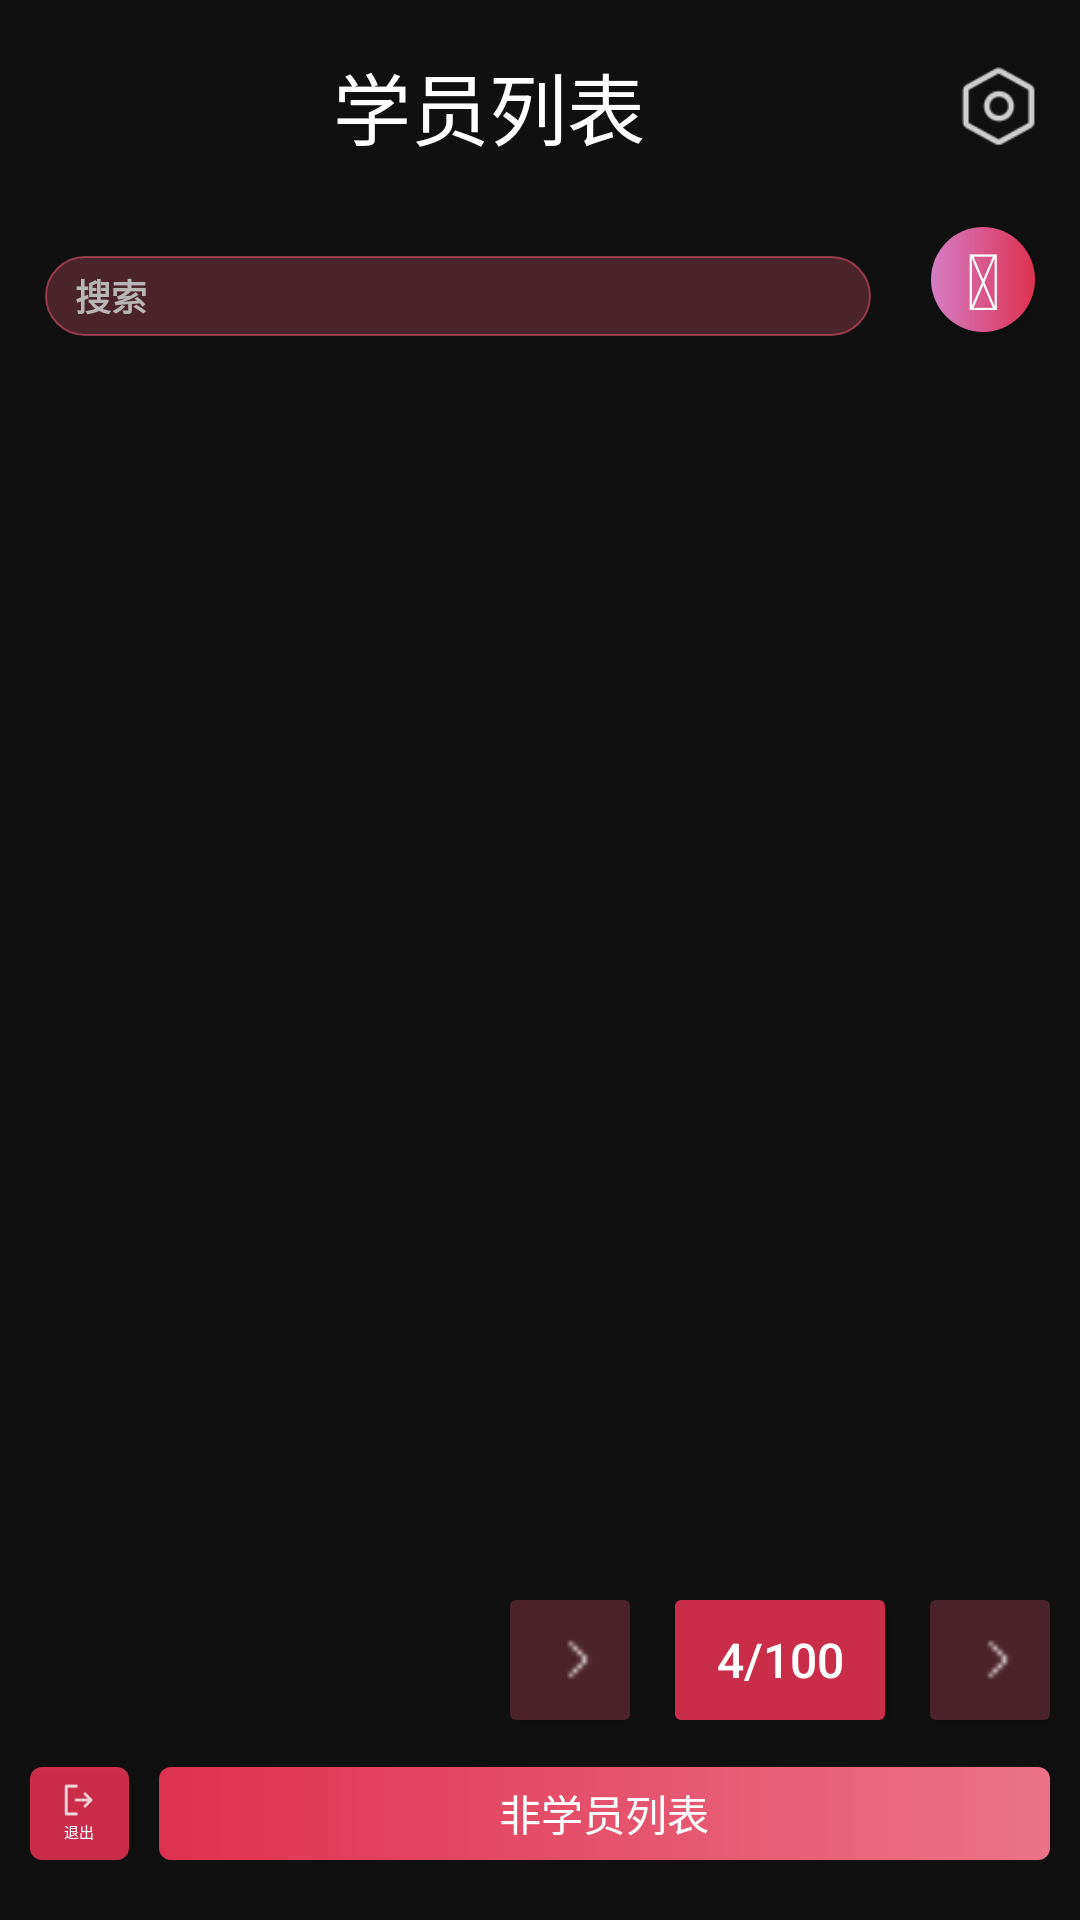

Named icons in this screenshot (1080px×1920px) and their bounding boxes, [x1, y1, x2, y2]:
set up: [962, 67, 1035, 145]
